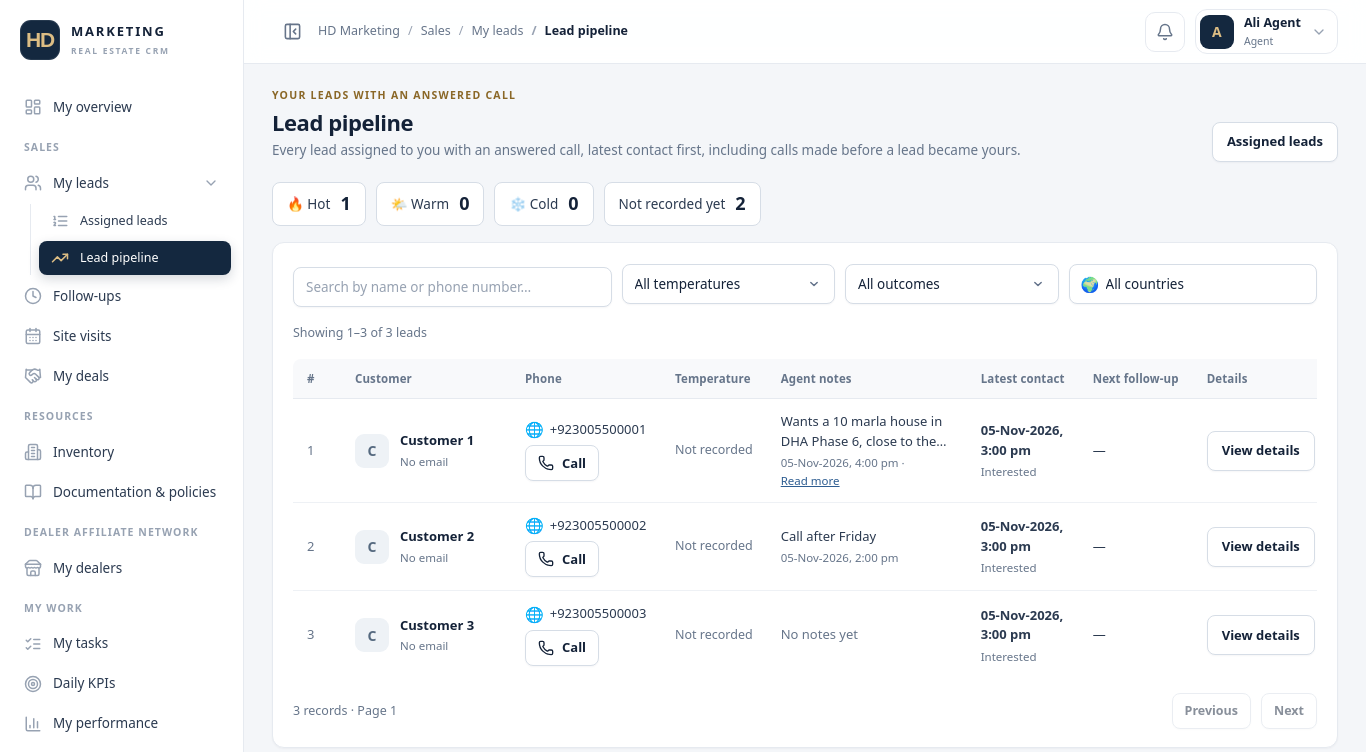
Scenario: Lead pipeline › shows each lead's latest agent note, two lines at first, or says there is none
This screenshot has width=1366, height=752.
Click the button "Read more": point(810, 480) [781,472,840,489]
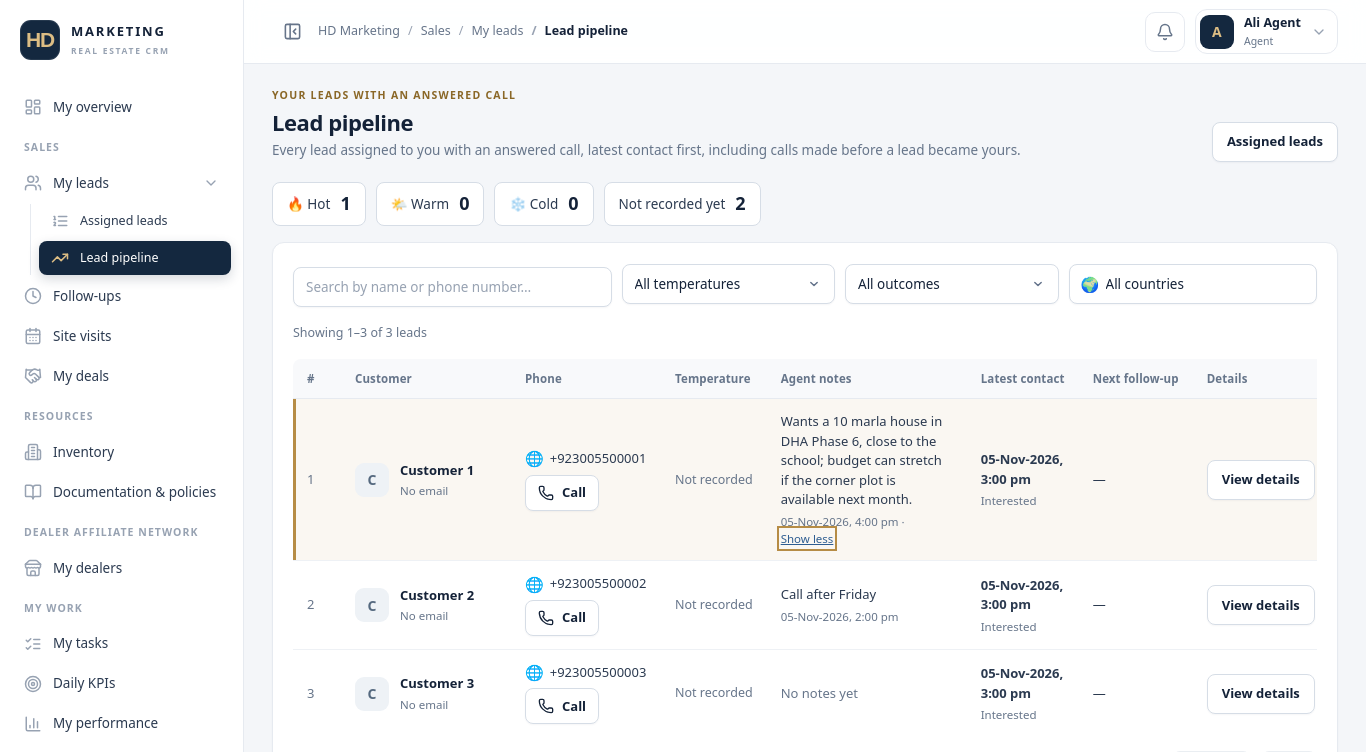
Expected: the button "Show less" is expanded, [781,530,833,548]
